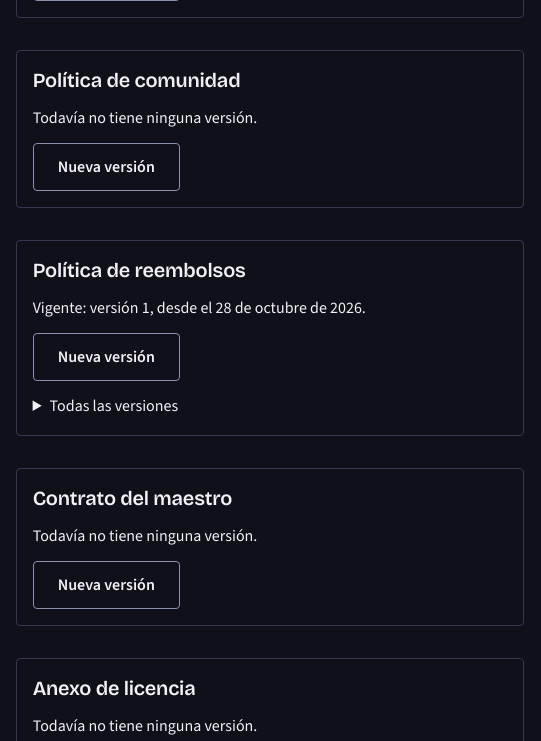
Test: PA-89, los textos legales › lo que no se supo se dice arriba de la lista
(page scrolled)
Click the button named "Nueva versión de Política de reembolsos" at (106, 357), box [33, 333, 180, 381]
(page scrolled)
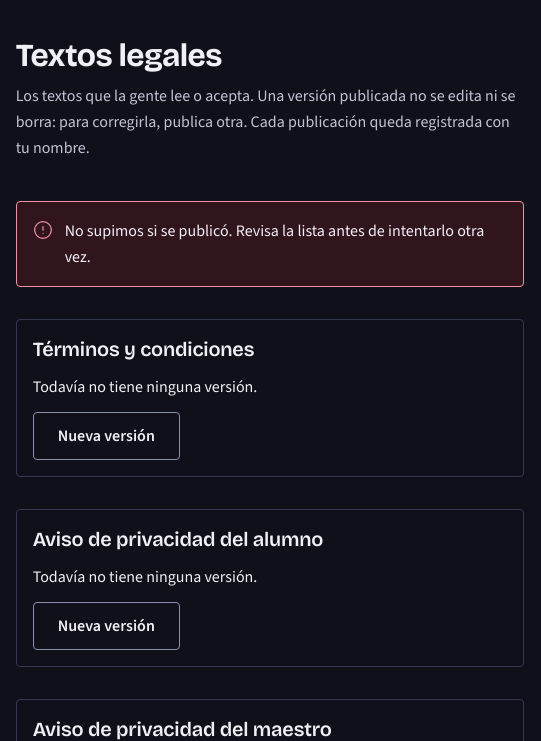
Check: the text "No supimos si se publicó. Revisa la lista antes de intentarlo otra vez." is shown, box [65, 218, 507, 270]
